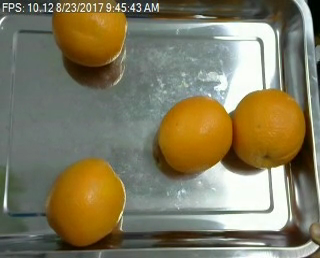Orange: (46, 157, 127, 247), (232, 88, 306, 169), (158, 94, 233, 173), (49, 12, 128, 67)
